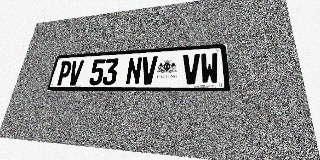3: (102, 58, 119, 85)
5: (89, 59, 106, 85)
N: (125, 57, 142, 85)
P: (56, 61, 73, 85)
V: (182, 53, 200, 84), (140, 56, 158, 85), (67, 60, 84, 85)
W: (200, 52, 219, 84)
